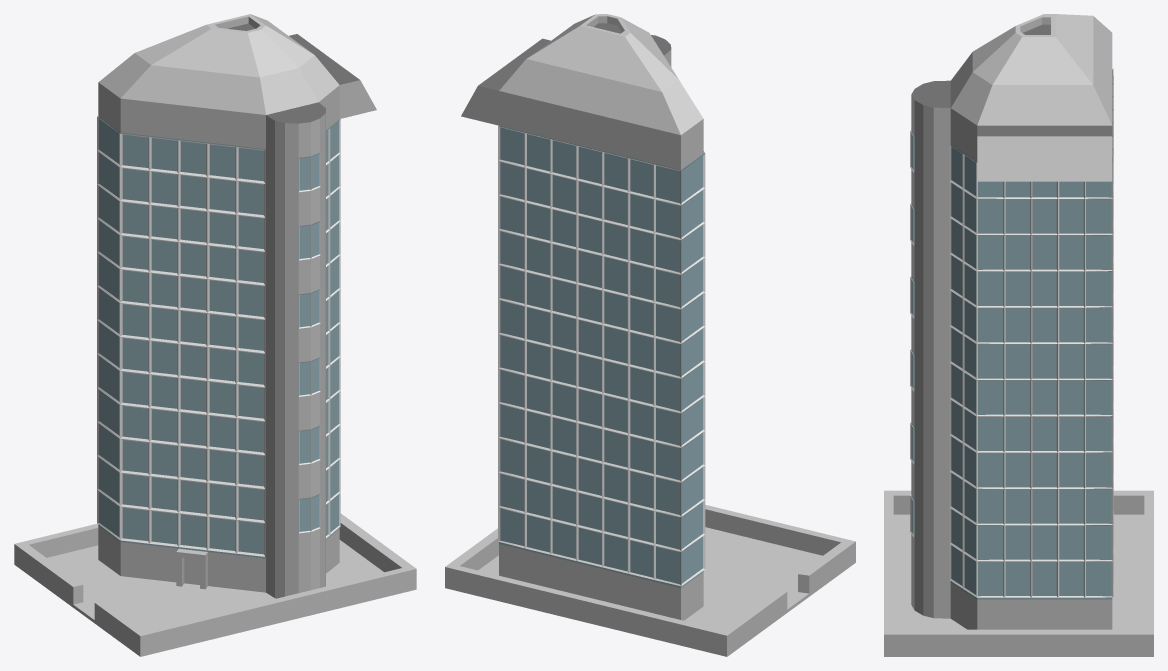
Rendered from rascacielo.dae.
3 views of the same model, side by side, from view 1: azimuth 30°, elevation 25°; view 2: azimuth 150°, elevation 25°; view 3: azimuth 270°, elevation 25° (orthographic). The views are drawn at different scales.
Parts seen in each view (by area): view 1: Plane_002, Plane_001, Plane, Plane_005, Plane_004, Plane_008, Plane_006; view 2: Plane_002, Plane, Plane_005, Plane_004, Plane_001, Plane_008, Plane_006; view 3: Plane_002, Plane_001, Plane, Plane_005, Plane_004, Plane_008, Plane_000, Plane_006.
Boxes of the visible parts, x1,y1,x2,y2 form: Plane_002: [98, 116, 339, 558]; Plane_001: [98, 80, 376, 566]; Plane: [14, 513, 416, 656]; Plane_005: [97, 116, 340, 556]; Plane_004: [98, 14, 339, 114]; Plane_008: [98, 526, 339, 598]; Plane_006: [227, 23, 359, 123]; Plane_002: [499, 126, 703, 587]; Plane: [445, 505, 855, 656]; Plane_005: [498, 125, 705, 586]; Plane_004: [499, 14, 703, 135]; Plane_001: [461, 50, 703, 169]; Plane_008: [499, 544, 703, 620]; Plane_006: [478, 23, 671, 90]; Plane_002: [911, 131, 1112, 599]; Plane_001: [911, 95, 977, 582]; Plane: [884, 490, 1153, 656]; Plane_005: [910, 68, 1113, 597]; Plane_004: [950, 14, 1112, 125]; Plane_008: [911, 569, 1112, 629]; Plane_000: [977, 136, 1112, 181]; Plane_006: [911, 24, 1112, 136].
Size of the model in its own units: 407 by 317 by 746.
